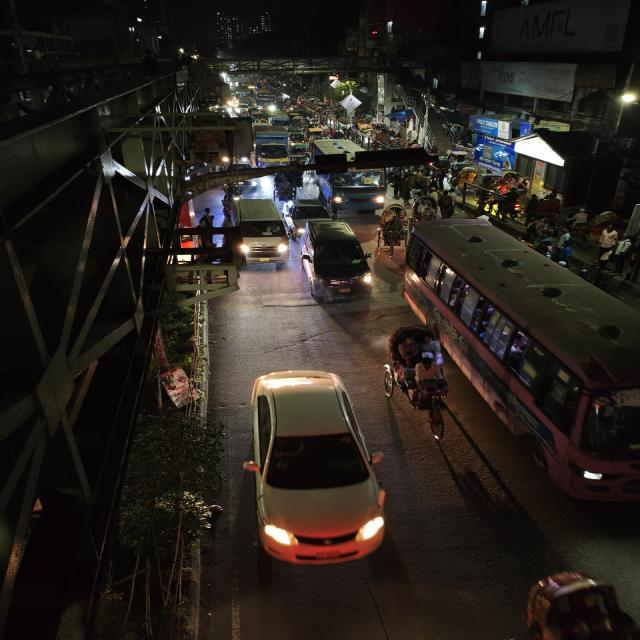bus: (400, 219, 640, 511), (317, 165, 392, 211), (252, 90, 280, 114)
car: (233, 368, 388, 572), (299, 218, 376, 304), (234, 198, 294, 270), (286, 198, 333, 228)
pedestrian: (433, 190, 458, 220), (560, 241, 576, 267)
rickshaw: (382, 322, 455, 432), (374, 203, 412, 249), (270, 174, 300, 206)
truck: (252, 124, 291, 170)
